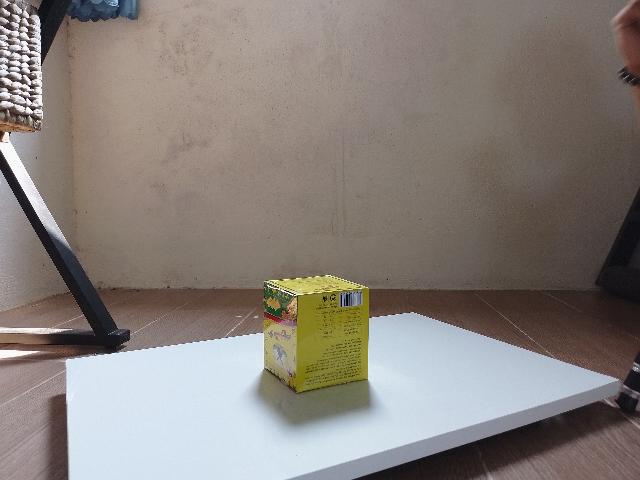luong_kho: (263, 275, 370, 394)
